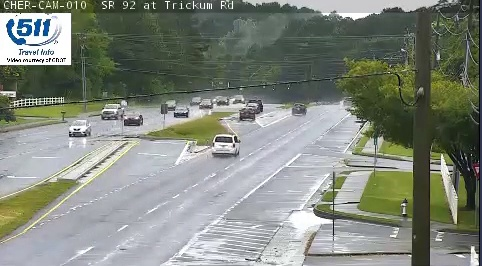car: (212, 134, 240, 155), (239, 107, 255, 120)
